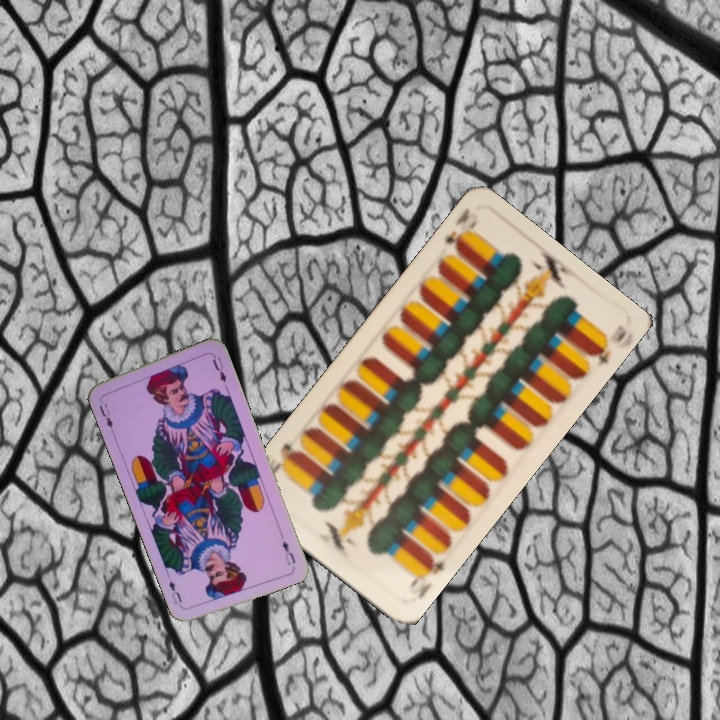E10: (440, 204, 481, 257), (405, 549, 448, 591)
EU: (95, 399, 115, 431), (278, 536, 298, 568)
